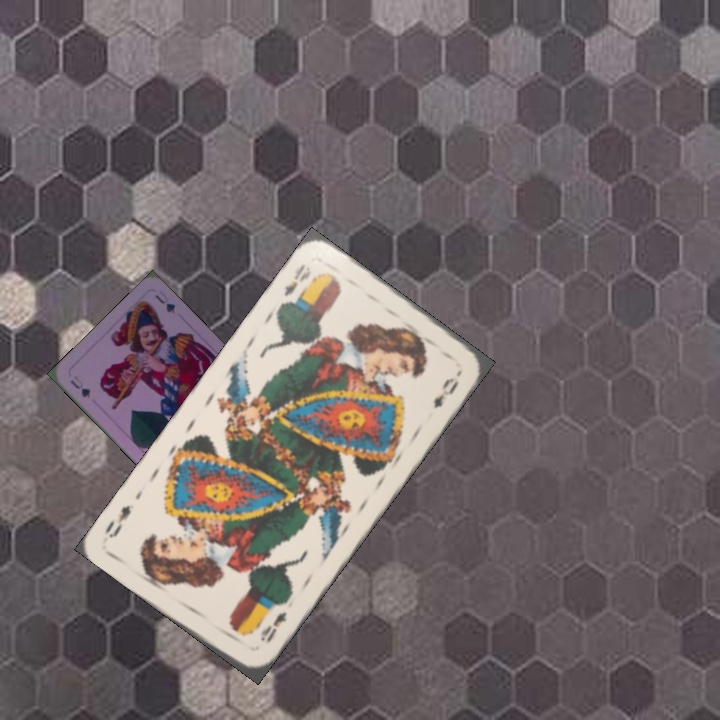EO: (279, 259, 314, 300), (256, 607, 290, 645)
GU: (66, 372, 93, 401)
